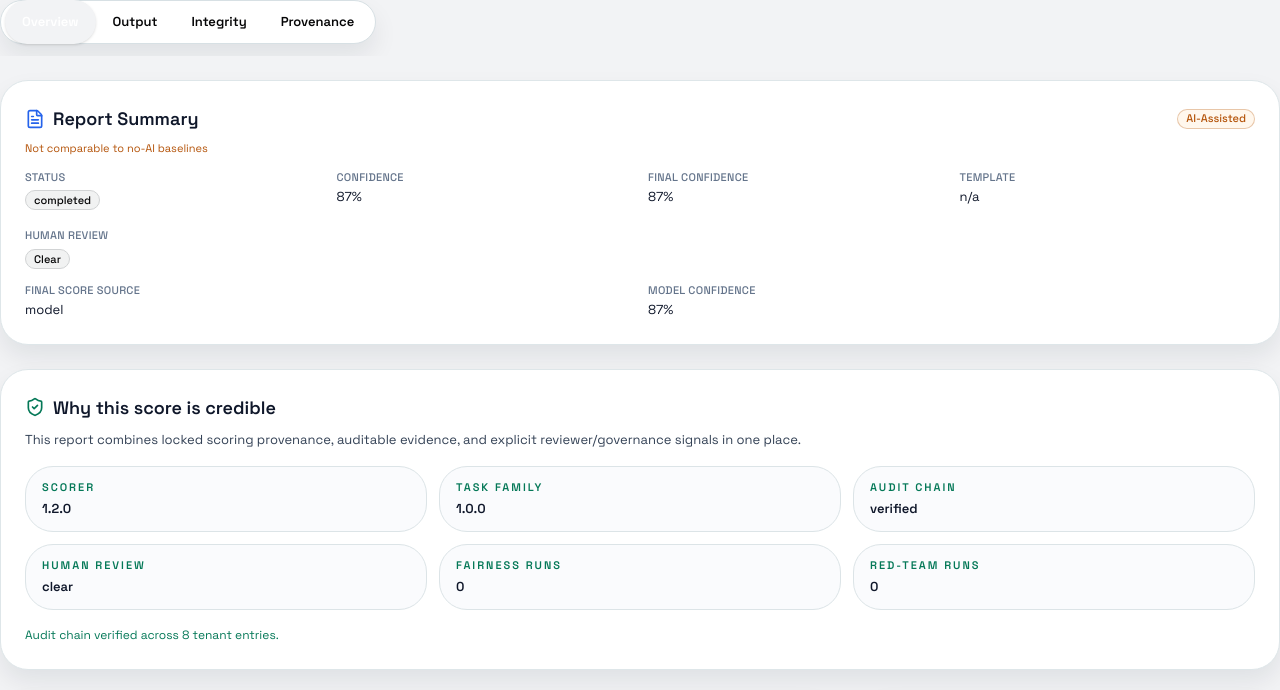
it: ReportReviewConsole tabs › integrity tier selector filters timeline entries
Click the tab "Integrity": (219, 22) [174, 0, 264, 44]
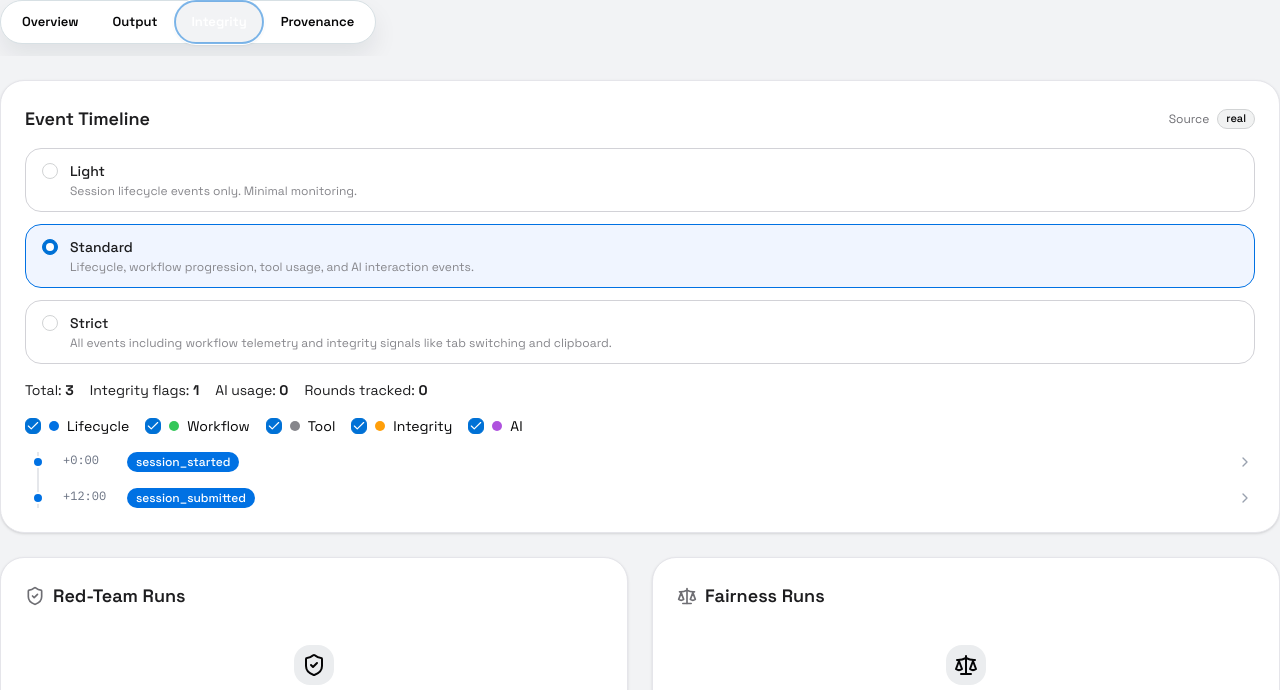
expect the number of elements with test id "event-badge" is 2: met, box [127, 452, 239, 472]; [127, 488, 255, 508]
Click the radio button named "Strict": (50, 323) [42, 315, 58, 331]
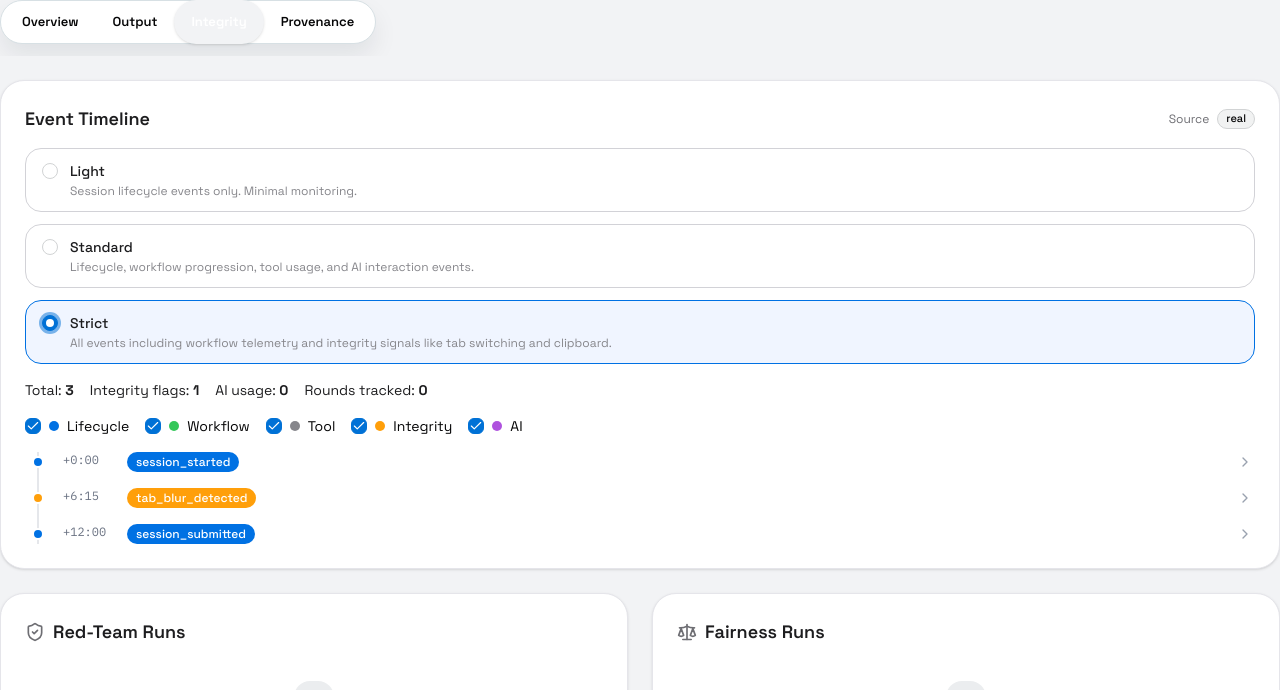
expect the number of elements with test id "event-badge" is 3: met, box [127, 452, 239, 472]; [127, 488, 256, 508]; [127, 524, 255, 544]
